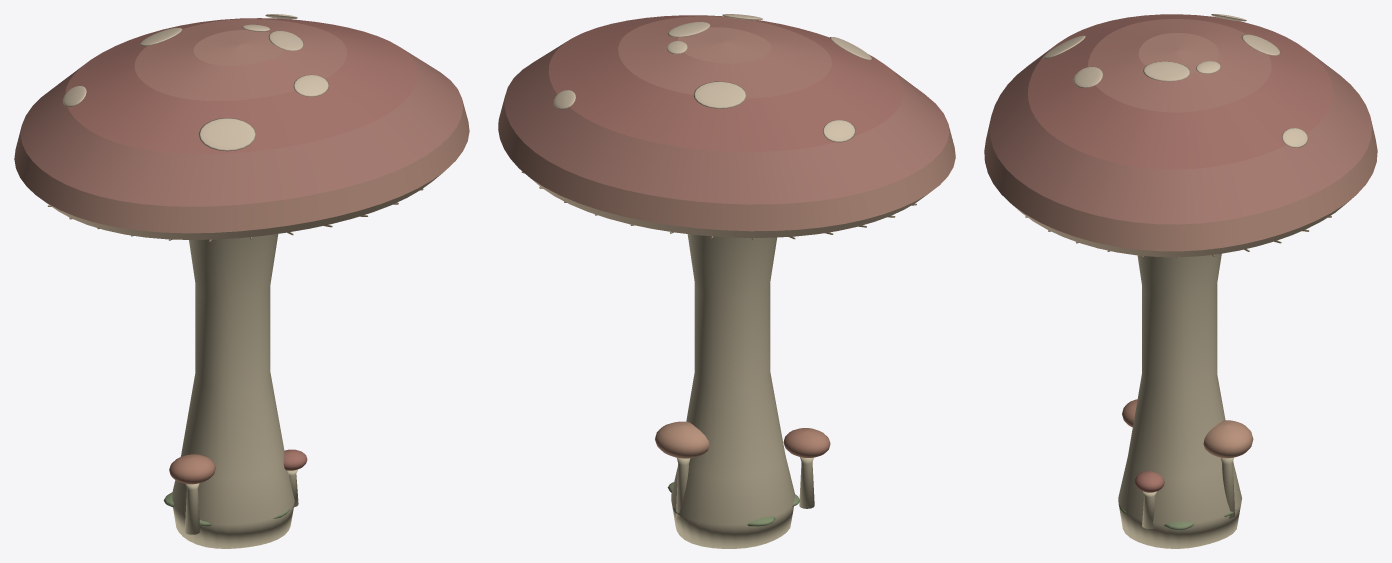
The model's file is giant-mushroom.glb.
The picture shows the model from 3 angles, left to right: view 1: azimuth 30°, elevation 25°; view 2: azimuth 150°, elevation 25°; view 3: azimuth 270°, elevation 25°; orthographic projection.
Visible parts, largest first — view 1: giant-mushroom_Discovery_Mesh, Cream cap fleck.002_Mesh, Cream cap fleck.001_Mesh; view 2: giant-mushroom_Discovery_Mesh, Cream cap fleck.004_Mesh, Cream cap fleck.003_Mesh; view 3: giant-mushroom_Discovery_Mesh, Cream cap fleck_Mesh, Cream cap fleck.001_Mesh.
Part boxes in pixels (x1,y1,x2,y2): giant-mushroom_Discovery_Mesh: (14, 18, 469, 548); Cream cap fleck.002_Mesh: (198, 118, 256, 151); Cream cap fleck.001_Mesh: (293, 74, 328, 96); giant-mushroom_Discovery_Mesh: (498, 15, 955, 548); Cream cap fleck.004_Mesh: (693, 81, 746, 108); Cream cap fleck.003_Mesh: (823, 120, 855, 142); giant-mushroom_Discovery_Mesh: (984, 14, 1377, 548); Cream cap fleck_Mesh: (1143, 61, 1190, 81); Cream cap fleck.001_Mesh: (1073, 66, 1102, 88).
Bounding box in the file's own units: 2.14 × 2.39 × 1.78.
